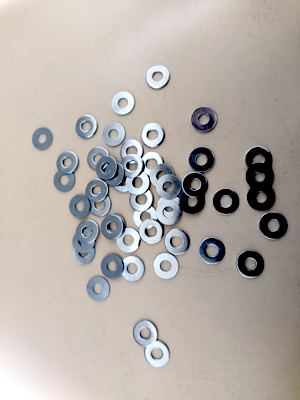circle: (237, 251, 265, 279), (247, 184, 276, 211), (260, 212, 288, 239), (199, 238, 225, 265), (246, 147, 273, 173), (145, 340, 170, 368), (213, 189, 239, 215), (133, 320, 158, 347), (246, 164, 274, 188), (154, 253, 179, 279), (165, 229, 190, 255), (189, 147, 215, 172), (182, 172, 208, 197), (192, 107, 217, 132), (180, 189, 205, 214), (141, 123, 166, 148), (157, 200, 182, 225), (157, 175, 182, 200), (150, 164, 175, 189), (146, 66, 171, 90), (117, 228, 141, 253), (111, 168, 135, 193), (122, 256, 145, 282), (112, 92, 136, 116), (134, 205, 158, 229), (141, 152, 165, 176), (121, 154, 145, 178), (120, 140, 144, 164), (87, 277, 110, 302), (101, 254, 124, 279), (140, 219, 163, 244), (157, 195, 180, 220), (73, 229, 96, 253), (130, 189, 154, 212), (86, 179, 109, 203), (126, 171, 149, 195), (87, 147, 110, 171), (101, 215, 123, 240), (103, 214, 125, 239), (103, 123, 126, 146), (73, 242, 96, 265), (77, 220, 99, 244), (89, 193, 111, 217), (96, 156, 117, 181), (76, 115, 98, 138), (57, 151, 79, 174), (54, 170, 76, 193), (69, 195, 91, 218), (104, 163, 124, 187), (32, 128, 53, 150)
